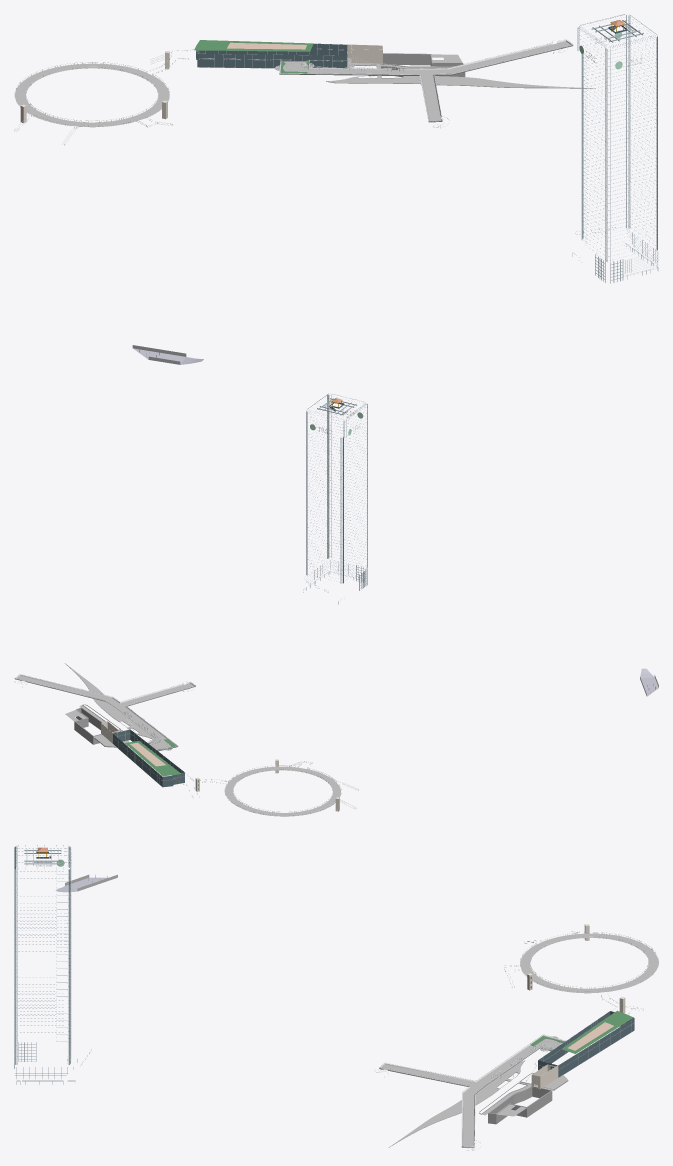
File: lujiazui-22.glb
3 renders of one model, top to bottom at view 1: azimuth 30°, elevation 25°; view 2: azimuth 150°, elevation 25°; view 3: azimuth 270°, elevation 25°, orthographic. The views are drawn at different scales.
Parts seen in each view (by area): view 1: source_2997_Mat3d66-1303573-2119-613_part0, source_3023_Mat3d66-1303573-326-7287_part0, source_3020_Mat3d66-1303573-306-9553_part0, source_3026_栏杆_part0, source_3017_Mat3d66-1303573-310-455_part0, source_3027_不锈刚_part0, source_3021_Mat3d66-1303573-2044-1894_part0, source_3015_Mat3d66-1303573-297-3035_part0, source_3024_Mat3d66-1303573-160-2989_part0; view 2: source_2997_Mat3d66-1303573-2119-613_part0, source_3023_Mat3d66-1303573-326-7287_part0, source_3020_Mat3d66-1303573-306-9553_part0, source_3027_不锈刚_part0, source_3026_栏杆_part0, source_3017_Mat3d66-1303573-310-455_part0; view 3: source_2997_Mat3d66-1303573-2119-613_part0, source_3023_Mat3d66-1303573-326-7287_part0, source_3020_Mat3d66-1303573-306-9553_part0, source_3026_栏杆_part0, source_3015_Mat3d66-1303573-297-3035_part0, source_3017_Mat3d66-1303573-310-455_part0, source_3027_不锈刚_part0, source_3021_Mat3d66-1303573-2044-1894_part0, source_3024_Mat3d66-1303573-160-2989_part0.
Boxes of the visible parts, x1=… form: source_2997_Mat3d66-1303573-2119-613_part0: x1=572, y1=14, x2=658, y2=283; source_3023_Mat3d66-1303573-326-7287_part0: x1=15, y1=41, x2=570, y2=126; source_3020_Mat3d66-1303573-306-9553_part0: x1=196, y1=43, x2=347, y2=68; source_3026_栏杆_part0: x1=14, y1=39, x2=573, y2=145; source_3017_Mat3d66-1303573-310-455_part0: x1=326, y1=76, x2=594, y2=88; source_3027_不锈刚_part0: x1=275, y1=40, x2=573, y2=122; source_3021_Mat3d66-1303573-2044-1894_part0: x1=20, y1=44, x2=382, y2=123; source_3015_Mat3d66-1303573-297-3035_part0: x1=380, y1=53, x2=465, y2=77; source_3024_Mat3d66-1303573-160-2989_part0: x1=194, y1=40, x2=313, y2=73; source_2997_Mat3d66-1303573-2119-613_part0: x1=303, y1=393, x2=367, y2=604; source_3023_Mat3d66-1303573-326-7287_part0: x1=17, y1=676, x2=340, y2=816; source_3020_Mat3d66-1303573-306-9553_part0: x1=113, y1=729, x2=184, y2=787; source_3027_不锈刚_part0: x1=15, y1=674, x2=195, y2=751; source_3026_栏杆_part0: x1=14, y1=674, x2=358, y2=816; source_3017_Mat3d66-1303573-310-455_part0: x1=65, y1=663, x2=155, y2=739; source_2997_Mat3d66-1303573-2119-613_part0: x1=14, y1=845, x2=91, y2=1084; source_3023_Mat3d66-1303573-326-7287_part0: x1=381, y1=933, x2=658, y2=1146; source_3020_Mat3d66-1303573-306-9553_part0: x1=538, y1=1011, x2=634, y2=1077; source_3026_栏杆_part0: x1=374, y1=931, x2=658, y2=1150; source_3015_Mat3d66-1303573-297-3035_part0: x1=488, y1=1086, x2=552, y2=1124; source_3017_Mat3d66-1303573-310-455_part0: x1=388, y1=1060, x2=525, y2=1147; source_3027_不锈刚_part0: x1=379, y1=1035, x2=565, y2=1147; source_3021_Mat3d66-1303573-2044-1894_part0: x1=527, y1=924, x2=625, y2=1089; source_3024_Mat3d66-1303573-160-2989_part0: x1=531, y1=1010, x2=633, y2=1053.
Bounding box in the file's own units: 586 × 229 × 567.
